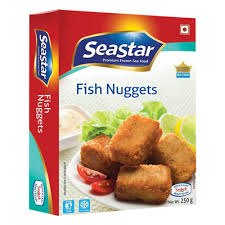nonveg_red: (179, 23, 191, 36)
